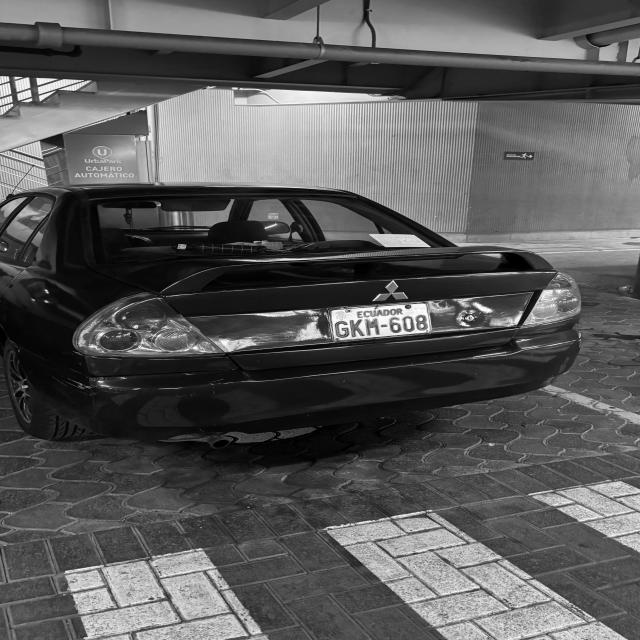Placa: (329, 303, 431, 341)
